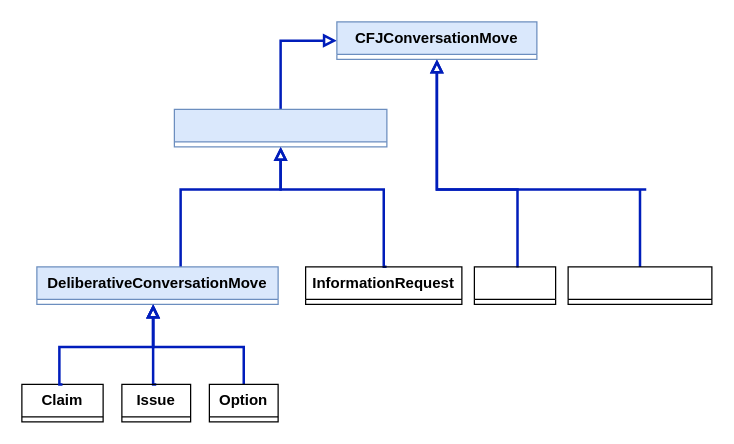
The diagram is 734 pixels wide and 444 high, and some of its shapes have lost their labels. The centre of each missing label's shape, as x and y in pixels:
ConversationMoveWithState: (280,127)
ExpressedPosition: (639,285)
Outcome: (514,285)
